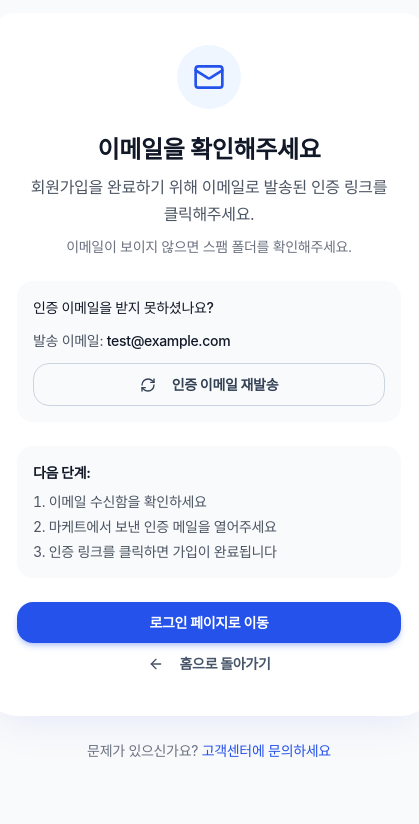
Test: VerifyEmailPage › 이메일 재발송 › 재발송 성공 시 성공 메시지가 표시된다
This screenshot has width=419, height=824.
Step 1. Click the button "인증 이메일 재발송" → (209, 385), box [33,364,385,406]
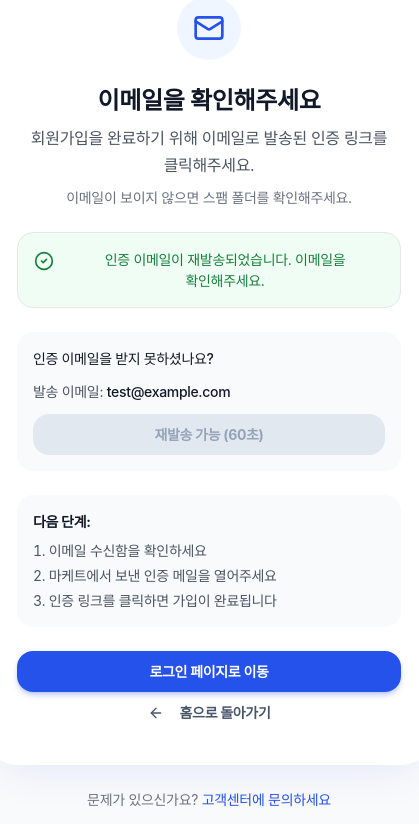
Expected: the text "인증 이메일이 재발송되었습니다. 이메일을 확인해주세요." is shown, [105,252,345,290]
